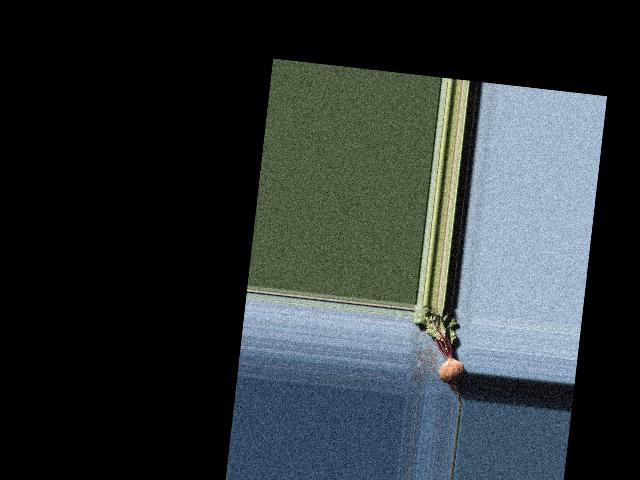beet: (404, 303, 472, 402)
